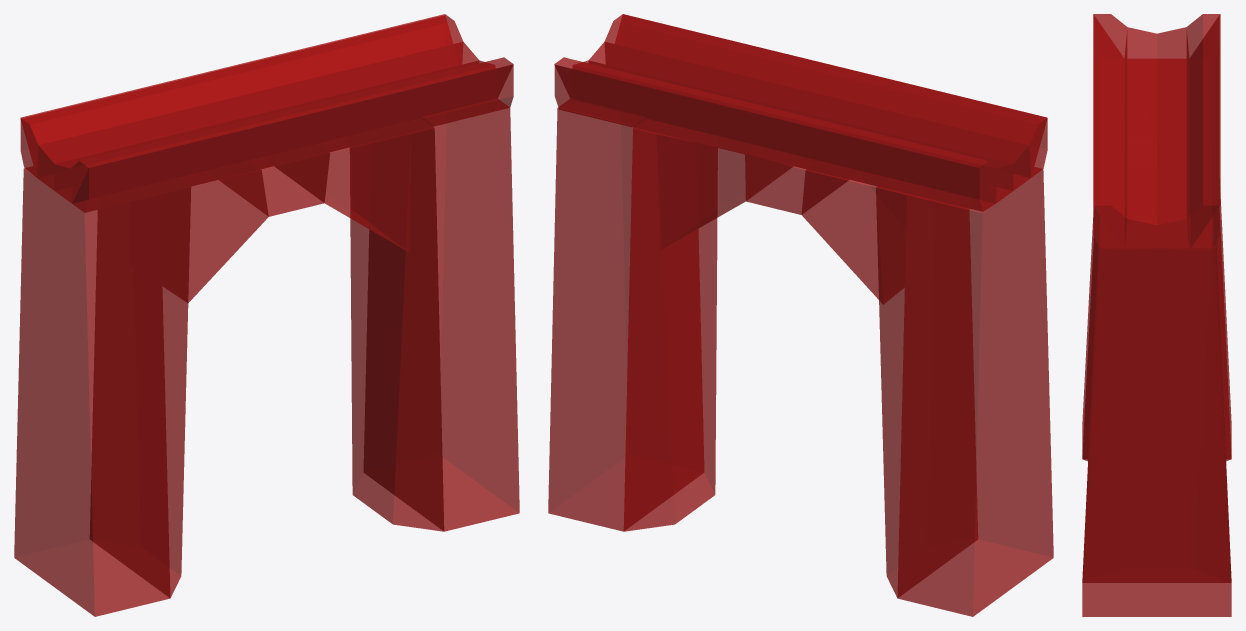
Rendered from SM_Env_Dwarf_Lava_Duct_01_Collision.fbx.
3 renders of one model, left to right at view 1: azimuth 30°, elevation 25°; view 2: azimuth 150°, elevation 25°; view 3: azimuth 270°, elevation 25°, orthographic. The views are drawn at different scales.
Visible parts, largest first — view 1: SM_Env_Dwarf_Lava_Duct_01_Collision; view 2: SM_Env_Dwarf_Lava_Duct_01_Collision; view 3: SM_Env_Dwarf_Lava_Duct_01_Collision.
Part boxes in pixels (<box>): SM_Env_Dwarf_Lava_Duct_01_Collision: <box>14,14,519,616</box>; SM_Env_Dwarf_Lava_Duct_01_Collision: <box>548,14,1053,616</box>; SM_Env_Dwarf_Lava_Duct_01_Collision: <box>1082,14,1231,616</box>.
Bounding box in the file's own units: 1000 × 1000 × 329.
